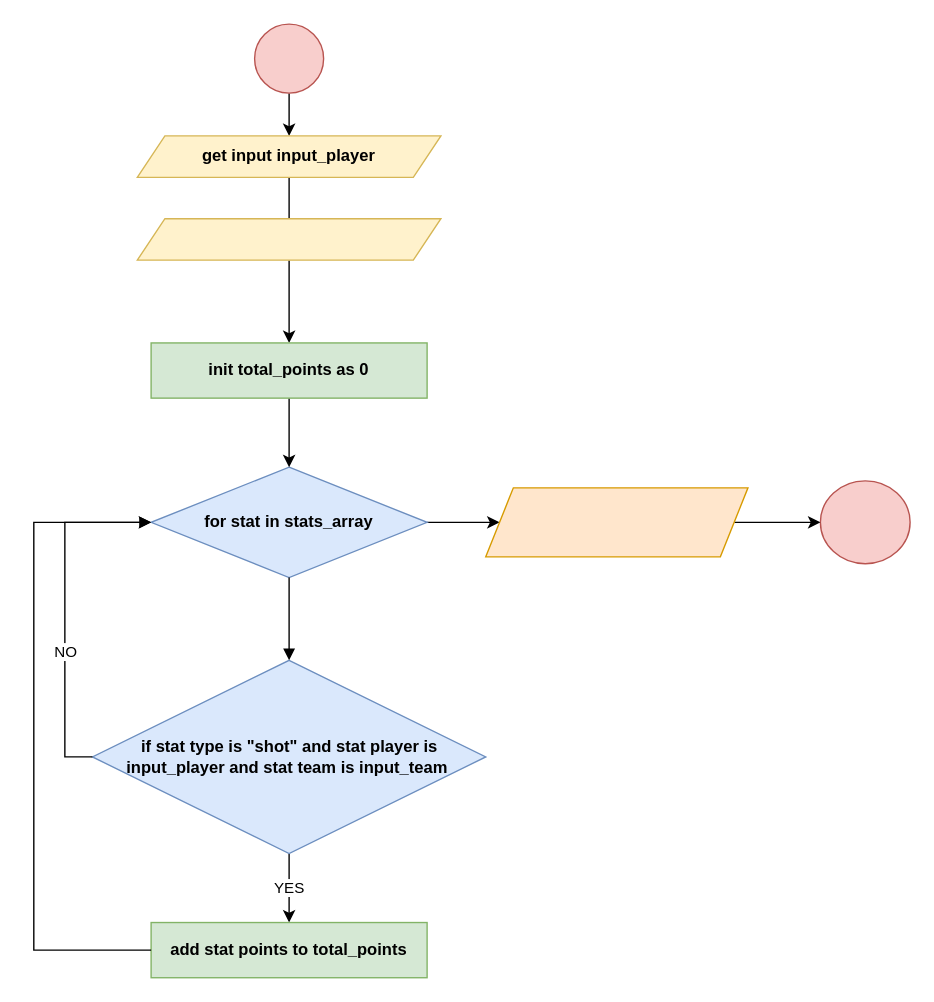
Some shapes in this 934 by 1002 pixel diagram are drawn without their labels. Each missing label, with the centre of its shape:
get input input_team: point 288,238
print total_points message: point 616,521
